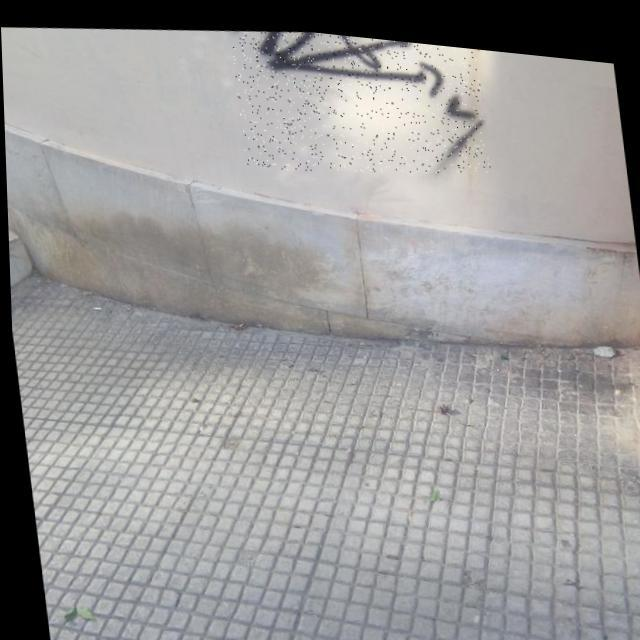-: (229, 18, 490, 184)
